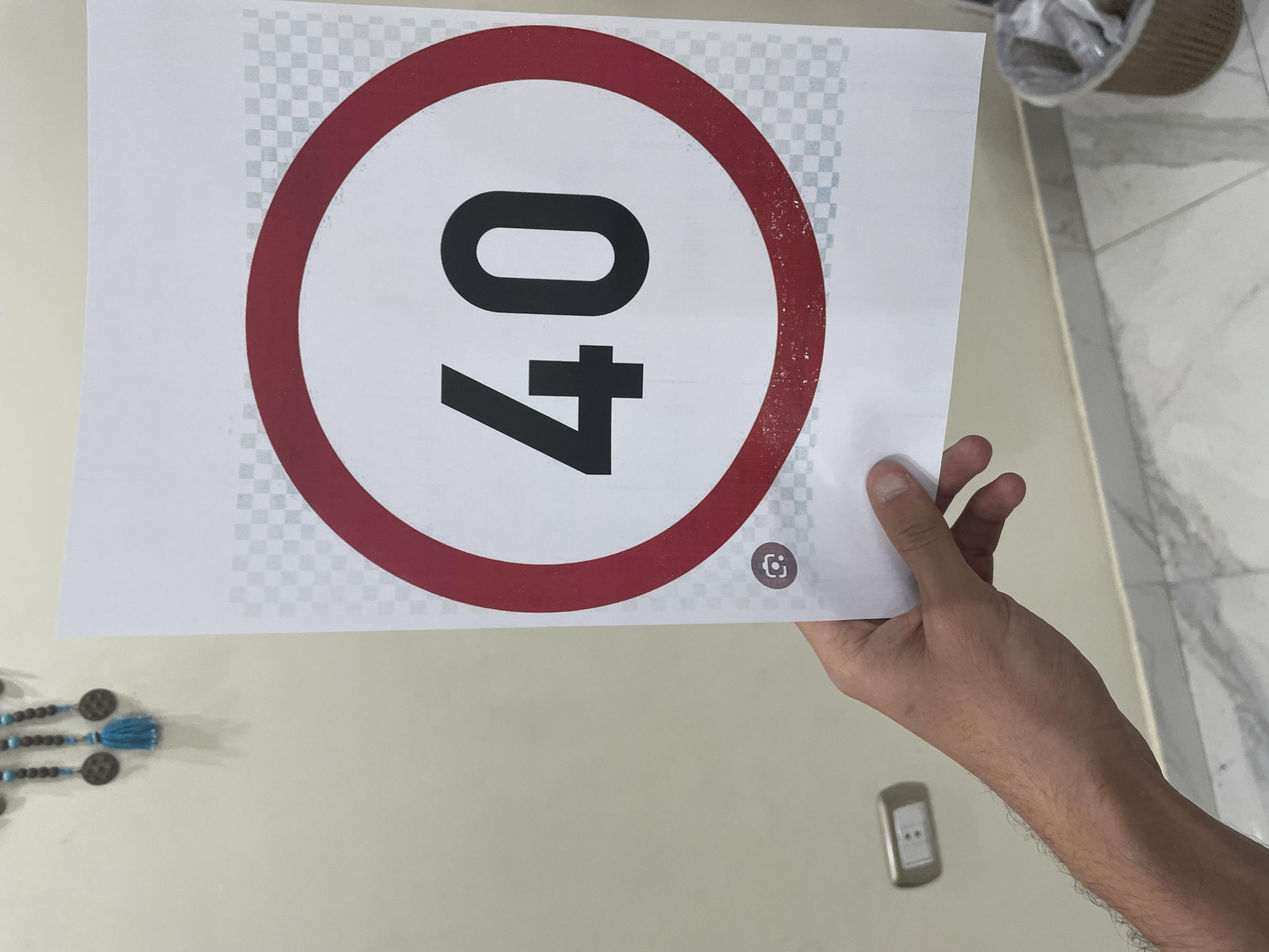40-Speed: (425, 152, 1254, 625)
